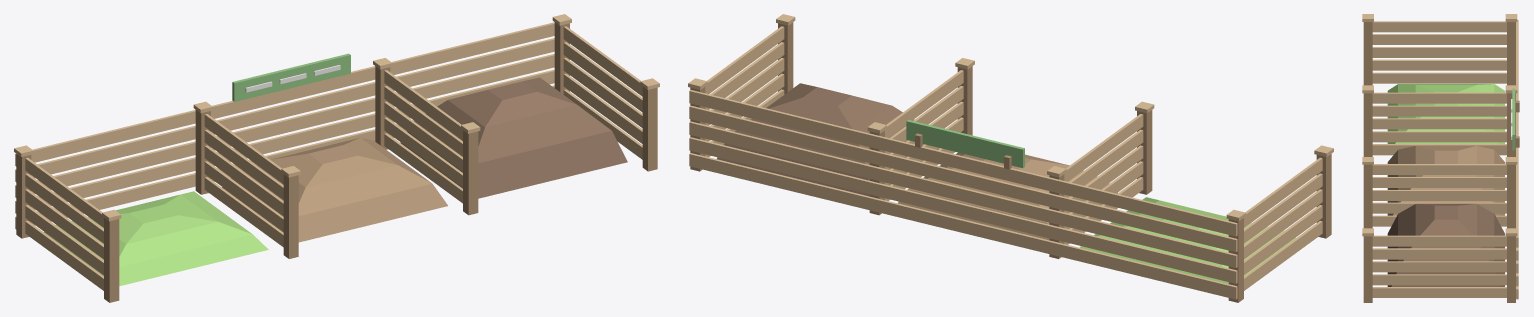
Rendered from compost.glb.
3 views of the same model, side by side, from view 1: azimuth 30°, elevation 25°; view 2: azimuth 150°, elevation 25°; view 3: azimuth 270°, elevation 25° (orthographic). The views are drawn at different scales.
Parts seen in each view (by area): view 1: back_slats, divider_slats, heap_1, heap_2, heap_3, posts, sign, post_caps, sign_text; view 2: back_slats, divider_slats, heap_1, posts, sign, heap_2, heap_3, post_caps; view 3: divider_slats, posts, heap_1, heap_2, heap_3, post_caps, back_slats, sign, sign_stubs.
Boxes of the visible parts, <box> form: back_slats: <box>15,22,554,229</box>; divider_slats: <box>25,26,642,290</box>; heap_1: <box>400,77,627,198</box>; heap_2: <box>222,137,447,242</box>; heap_3: <box>44,191,268,286</box>; posts: <box>16,22,657,302</box>; sign: <box>232,53,350,101</box>; post_caps: <box>14,14,659,221</box>; sign_text: <box>245,65,340,92</box>; back_slats: <box>689,90,1237,299</box>; divider_slats: <box>705,26,1322,290</box>; heap_1: <box>717,83,939,196</box>; posts: <box>690,22,1331,302</box>; sign: <box>906,120,1024,168</box>; heap_2: <box>898,152,1117,240</box>; heap_3: <box>1080,197,1295,283</box>; post_caps: <box>688,14,1333,221</box>; divider_slats: <box>1372,21,1506,297</box>; posts: <box>1363,22,1515,302</box>; heap_1: <box>1387,203,1504,286</box>; heap_2: <box>1387,145,1504,215</box>; heap_3: <box>1387,84,1504,143</box>; post_caps: <box>1362,14,1517,236</box>; back_slats: <box>1516,20,1518,299</box>; sign: <box>1512,88,1515,150</box>; sign_stubs: <box>1515,100,1519,147</box>.
Size of the model in its own units: 8.04 by 1.4 by 2.44.
